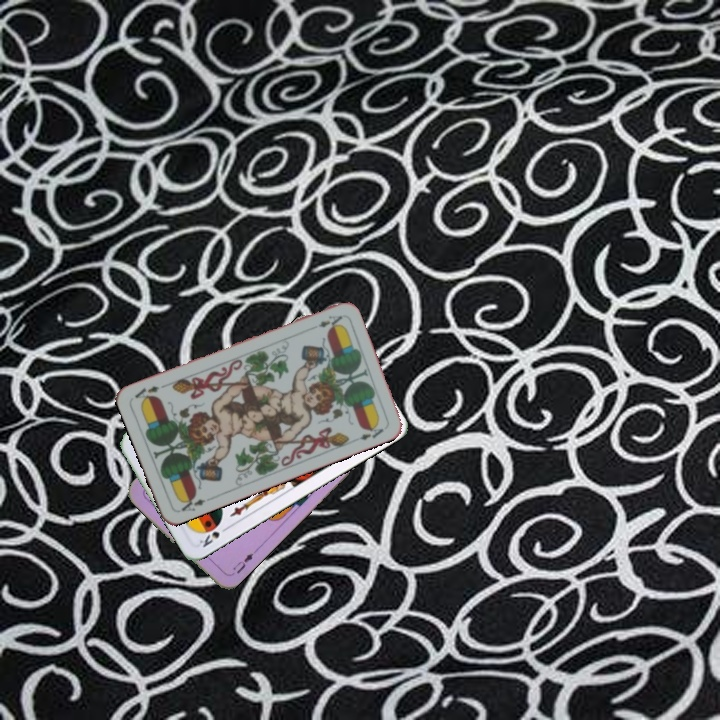EA: (176, 491, 214, 514), (306, 311, 345, 333)
EU: (225, 546, 258, 579)
SK: (195, 522, 232, 550)
